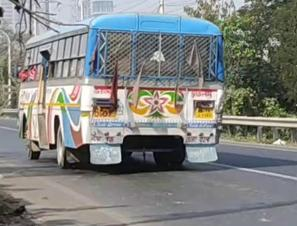Bus: (13, 8, 225, 174)
